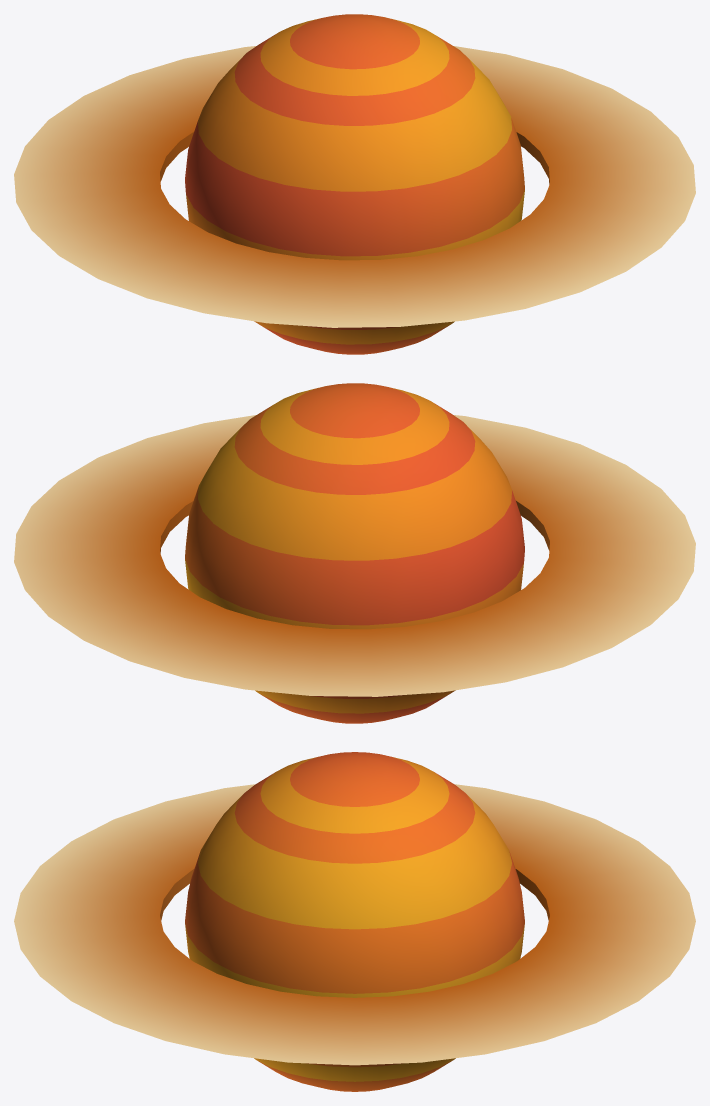
Rendered from Planet_X_01.fbx.
3 views of the same model, one above another, from view 1: azimuth 30°, elevation 25°; view 2: azimuth 150°, elevation 25°; view 3: azimuth 270°, elevation 25° (orthographic).
Parts seen in each view (by area): view 1: Planet_X_01; view 2: Planet_X_01; view 3: Planet_X_01.
Boxes of the visible parts, x1,y1,x2,y2 form: Planet_X_01: (14, 14, 695, 354); Planet_X_01: (14, 383, 695, 723); Planet_X_01: (14, 752, 695, 1091).
Bounding box in the file's own units: 585 × 292 × 585.
